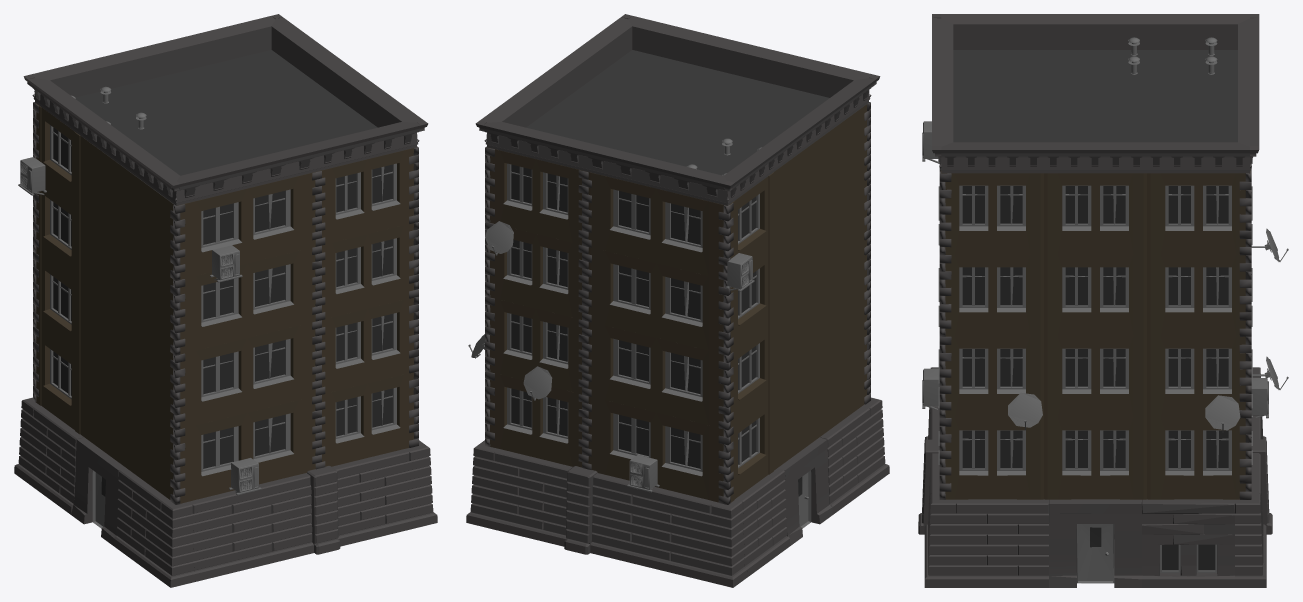
The picture shows the model from 3 angles, left to right: view 1: azimuth 30°, elevation 25°; view 2: azimuth 150°, elevation 25°; view 3: azimuth 270°, elevation 25°; orthographic projection. The views are drawn at different scales.
Parts seen in each view (by area): view 1: Plane.018, middle_floor_wall_02.541, ground_floor_wall_02.120, middle_floor_wall_02.542, middle_floor_wall_02.543, middle_floor_wall_02.540, middle_floor_wall_02.531, middle_floor_wall_02.529, middle_floor_wall_02.530, middle_floor_wall_02.528, ground_floor_wall_02.117, trimm.204 (+43 smaller); view 2: Plane.018, middle_floor_wall_02.539, middle_floor_wall_02.538, middle_floor_wall_02.537, ground_floor_wall_02.119, middle_floor_wall_02.536, middle_floor_wall_02.535, middle_floor_wall_02.532, middle_floor_wall_02.533, middle_floor_wall_02.534, ground_floor_wall_02.118, trimm.205 (+43 smaller); view 3: Plane.018, middle_floor_wall_02.520, middle_floor_wall_02.517, middle_floor_wall_02.523, middle_floor_wall_02.526, ground_floor_wall_02.116, ground_floor_wall_03.033, ground_floor_wall_01.038, middle_floor_wall_02.522, middle_floor_wall_02.527, middle_floor_wall_02.524, middle_floor_wall_02.525 (+32 smaller).
Part boxes in pixels (x1,y1,x2,y2): Plane.018: (74, 50, 377, 205); middle_floor_wall_02.541: (180, 322, 315, 428); ground_floor_wall_02.120: (188, 473, 313, 581); middle_floor_wall_02.542: (180, 248, 315, 354); middle_floor_wall_02.543: (177, 171, 317, 279); middle_floor_wall_02.540: (180, 396, 315, 503); middle_floor_wall_02.531: (319, 147, 416, 244); middle_floor_wall_02.529: (322, 298, 413, 393); middle_floor_wall_02.530: (322, 223, 413, 318); middle_floor_wall_02.528: (322, 372, 413, 466); ground_floor_wall_02.117: (332, 449, 412, 546); trimm.204: (31, 40, 182, 97); Plane.018: (526, 50, 868, 175); middle_floor_wall_02.539: (586, 171, 723, 278); middle_floor_wall_02.538: (588, 247, 723, 352); middle_floor_wall_02.537: (588, 322, 723, 427); ground_floor_wall_02.119: (590, 473, 715, 581); middle_floor_wall_02.536: (588, 396, 723, 502); middle_floor_wall_02.535: (487, 147, 584, 245); middle_floor_wall_02.532: (490, 373, 581, 467); middle_floor_wall_02.533: (490, 298, 581, 394); middle_floor_wall_02.534: (490, 228, 581, 319); ground_floor_wall_02.118: (491, 449, 572, 546); trimm.205: (721, 40, 872, 97); Plane.018: (953, 50, 1237, 142); middle_floor_wall_02.520: (1044, 336, 1146, 418); middle_floor_wall_02.517: (1044, 418, 1146, 499); middle_floor_wall_02.523: (1044, 255, 1146, 336); middle_floor_wall_02.526: (1044, 173, 1146, 254); ground_floor_wall_02.116: (956, 499, 1048, 587); ground_floor_wall_03.033: (1142, 499, 1234, 587); ground_floor_wall_01.038: (1049, 499, 1141, 587); middle_floor_wall_02.522: (945, 255, 1043, 336); middle_floor_wall_02.527: (1147, 173, 1249, 254); middle_floor_wall_02.524: (1147, 255, 1245, 336); middle_floor_wall_02.525: (941, 173, 1043, 254).
Size of the model in its own units: 1215 by 1616 by 1246.
